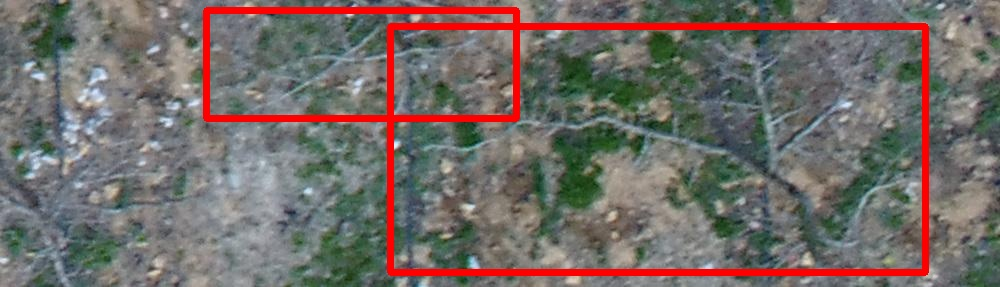apple: (390, 26, 925, 272), (206, 10, 516, 118)
